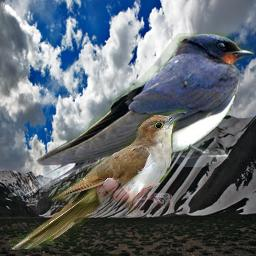Cuckoo: (9, 109, 187, 250)
Swallow: (8, 33, 255, 205)
